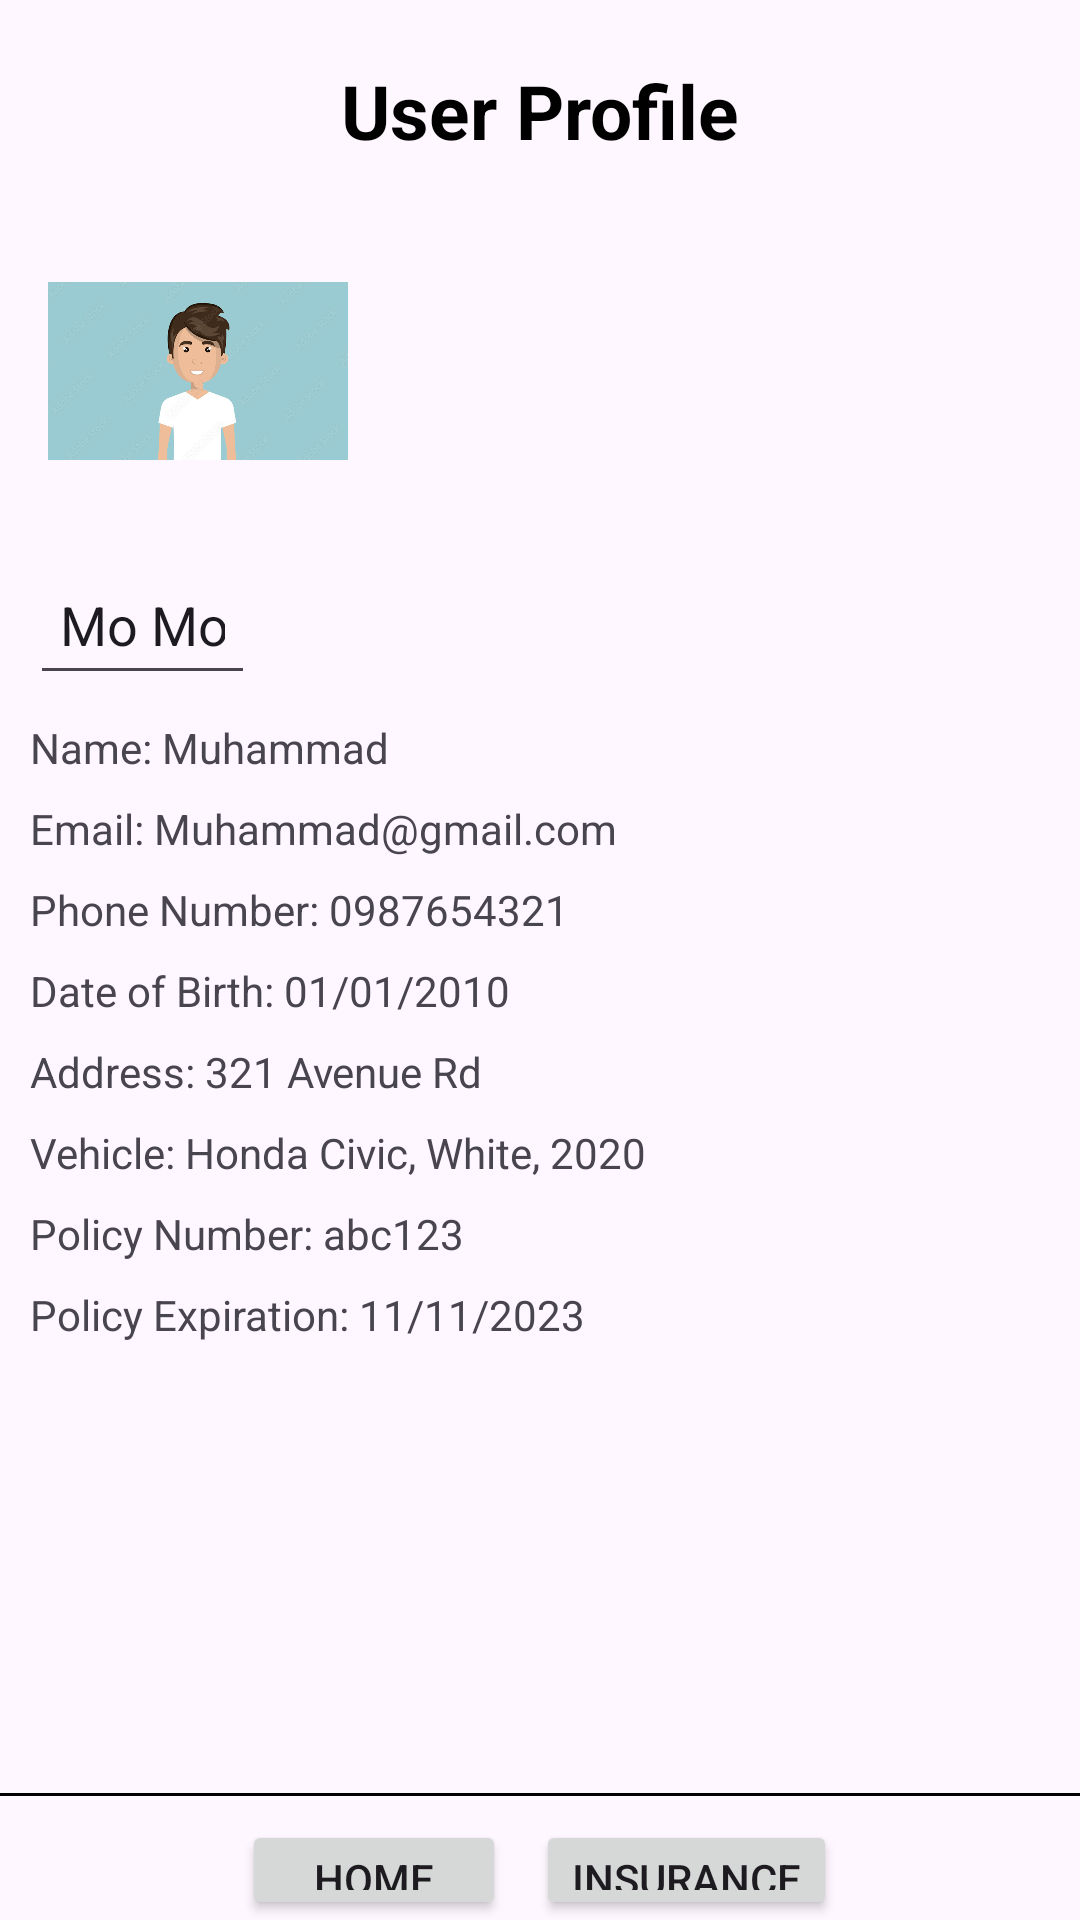

Locate icon controls on the screen. Image size 1080*1920, boxes as (x1, y1, x2, y2).
avatars: (48, 282, 348, 460)
